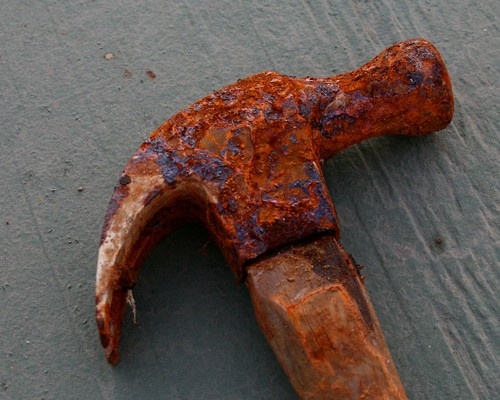hammer: (87, 35, 451, 400)
